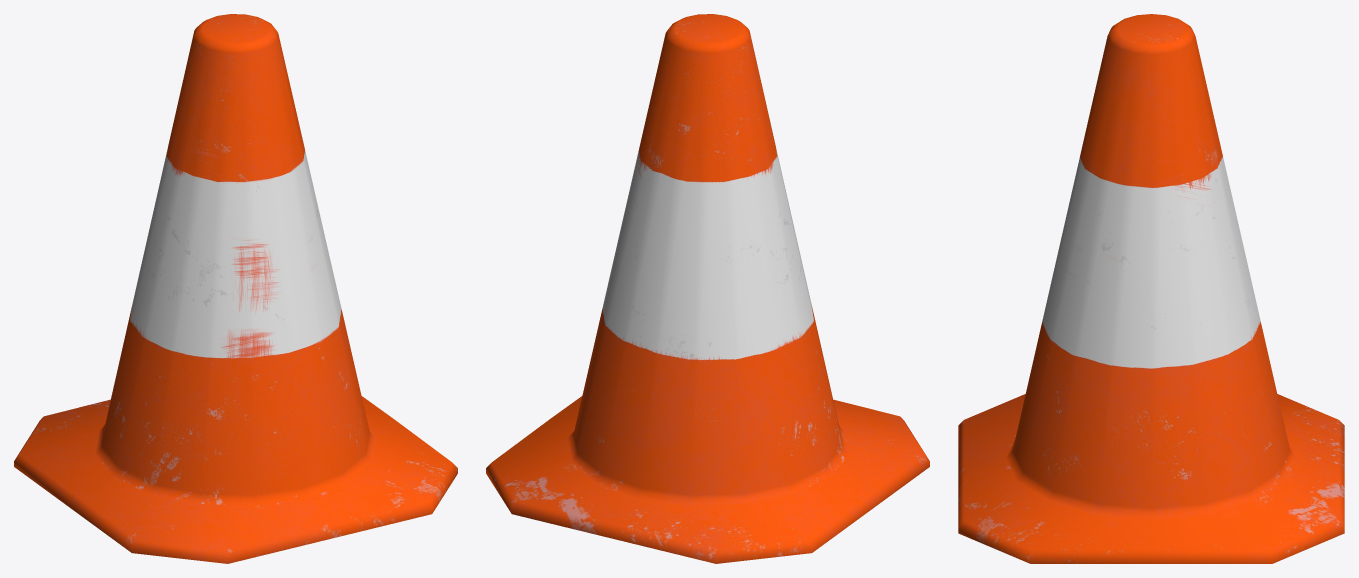
File: Cono_01.glb
3 renders of one model, left to right at view 1: azimuth 30°, elevation 25°; view 2: azimuth 150°, elevation 25°; view 3: azimuth 270°, elevation 25°, orthographic. The views are drawn at different scales.
Parts seen in each view (by area): view 1: Object_5; view 2: Object_5; view 3: Object_5.
Boxes of the visible parts, x1,y1,x2,y2 form: Object_5: (14, 14, 457, 563); Object_5: (486, 14, 929, 563); Object_5: (958, 14, 1344, 563).
Size of the model in its own units: 0.3538 by 0.4581 by 0.3535.
1 material, 1 textured.
